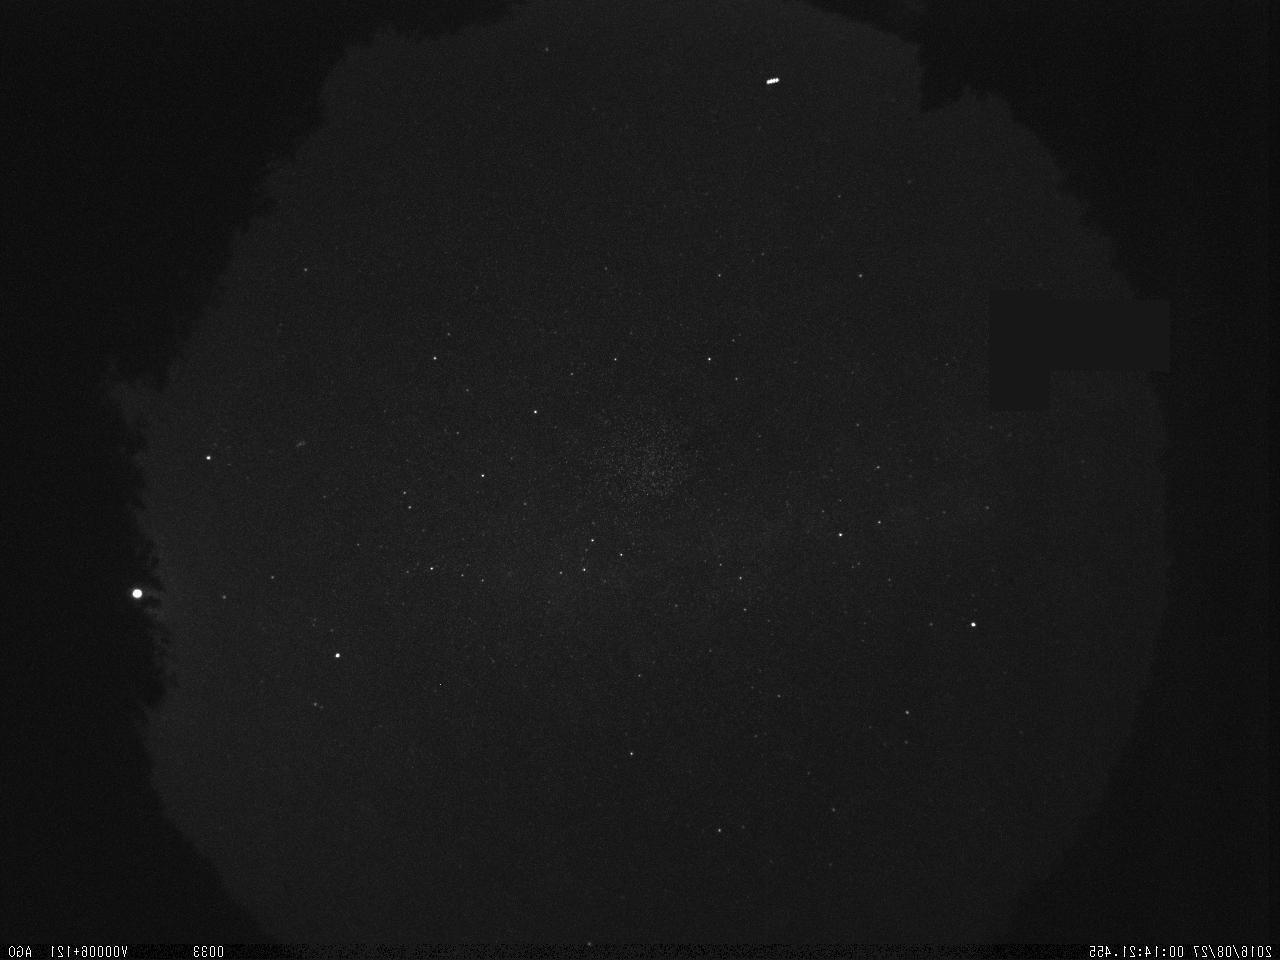meteor: (977, 281, 1021, 400)
